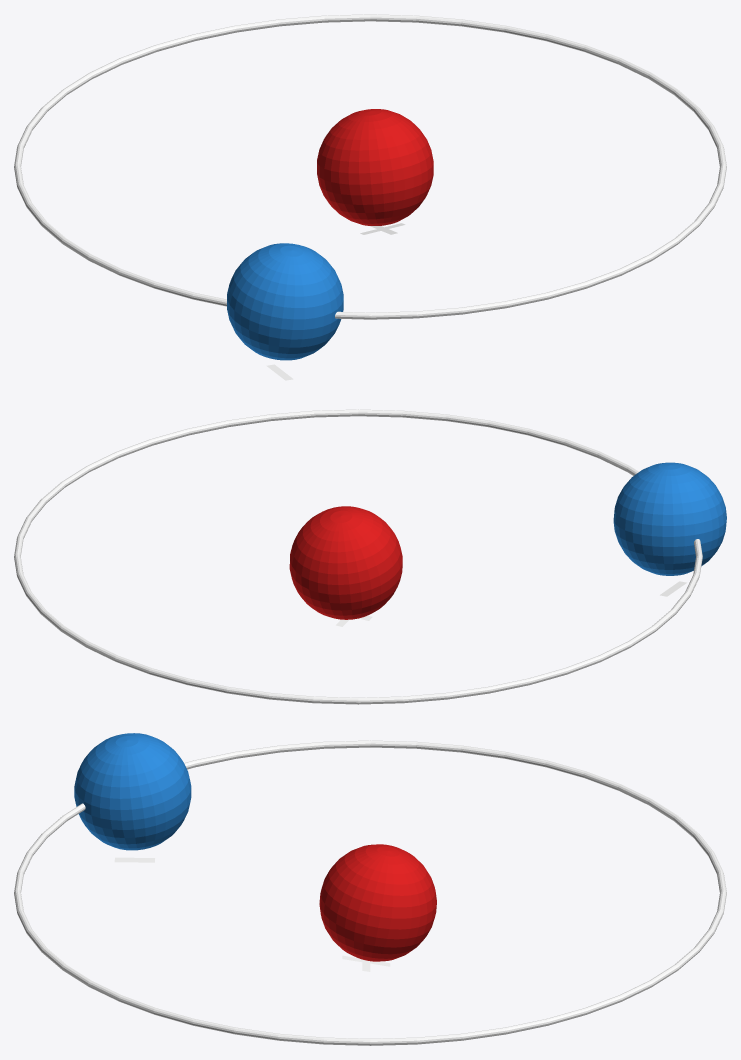
3 views of the same model, one above another, from view 1: azimuth 30°, elevation 25°; view 2: azimuth 150°, elevation 25°; view 3: azimuth 270°, elevation 25° (orthographic). The views are drawn at different scales.
Visible parts, largest first — view 1: Torus.001, f, -; view 2: Torus.001, f, -; view 3: Torus.001, f, -.
Boxes of the visible parts, left/top/right/bottom form: Torus.001: left=14, top=14, right=726, bottom=319; f: left=317, top=109, right=433, bottom=225; -: left=227, top=243, right=343, bottom=360; Torus.001: left=14, top=409, right=702, bottom=704; f: left=289, top=506, right=402, bottom=619; -: left=613, top=462, right=726, bottom=575; Torus.001: left=14, top=740, right=726, bottom=1045; f: left=319, top=844, right=436, bottom=961; -: left=74, top=733, right=191, bottom=850.
Bounding box in the file's own units: 2.82 × 0.5415 × 2.82.
